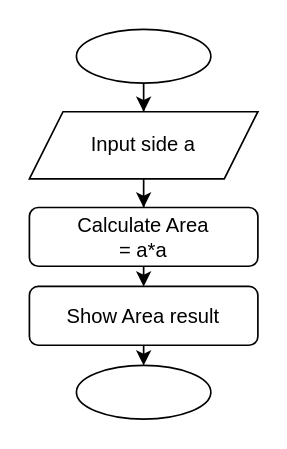
Some shapes in this 287 by 449 pixel diagram are drawn without their labels. The centre of each missing label's shape, as x and y in pixels:
END: (143,391)
START: (143,55)
